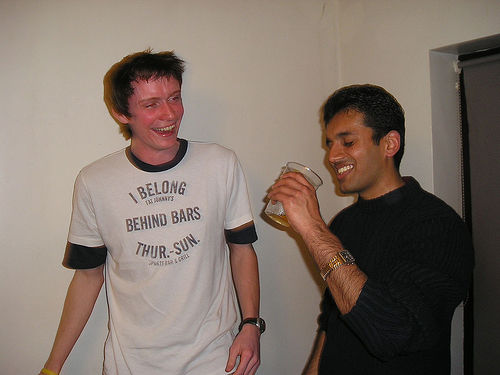without_mask: (310, 90, 419, 202), (102, 53, 208, 158)
